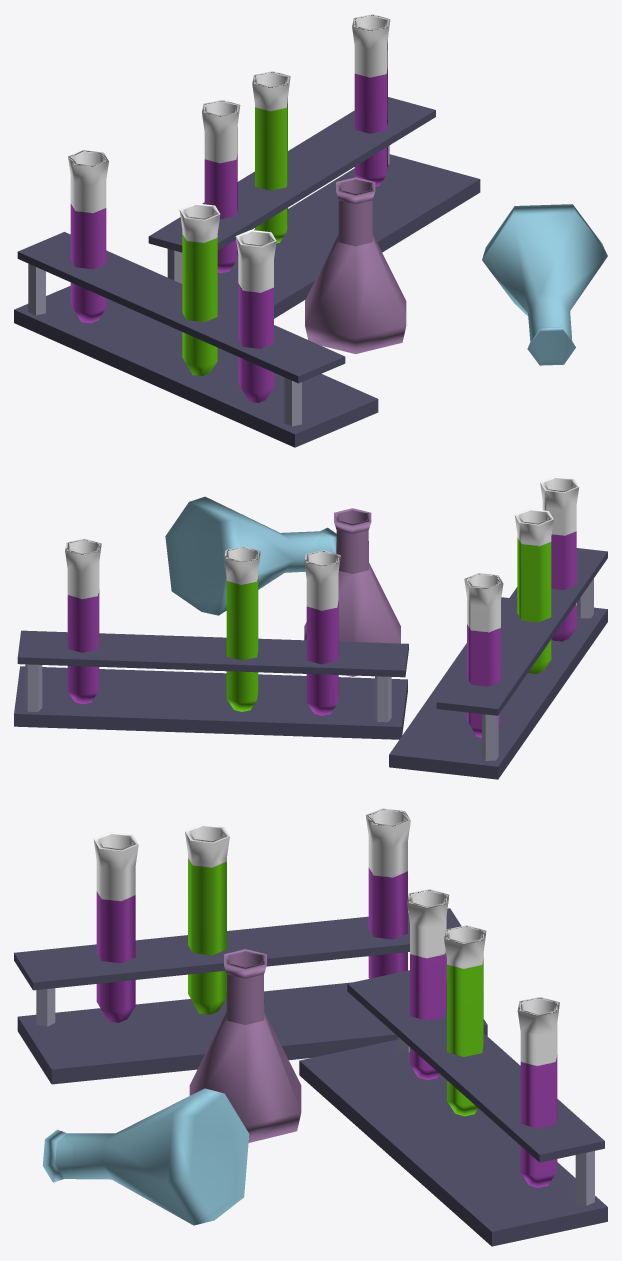
The model's file is test_tube_Rack.fbx.
3 views of the same model, one above another, from view 1: azimuth 30°, elevation 25°; view 2: azimuth 150°, elevation 25°; view 3: azimuth 270°, elevation 25° (orthographic). The views are drawn at different scales.
Visible parts, largest first — view 1: polySurface48; view 2: polySurface48; view 3: polySurface48.
Part boxes in pixels (box(x1,y1,x2,y2)): polySurface48: box(14, 14, 607, 447); polySurface48: box(14, 476, 607, 779); polySurface48: box(14, 808, 607, 1246).
Size of the model in its own units: 98.89 by 34.36 by 95.53.
